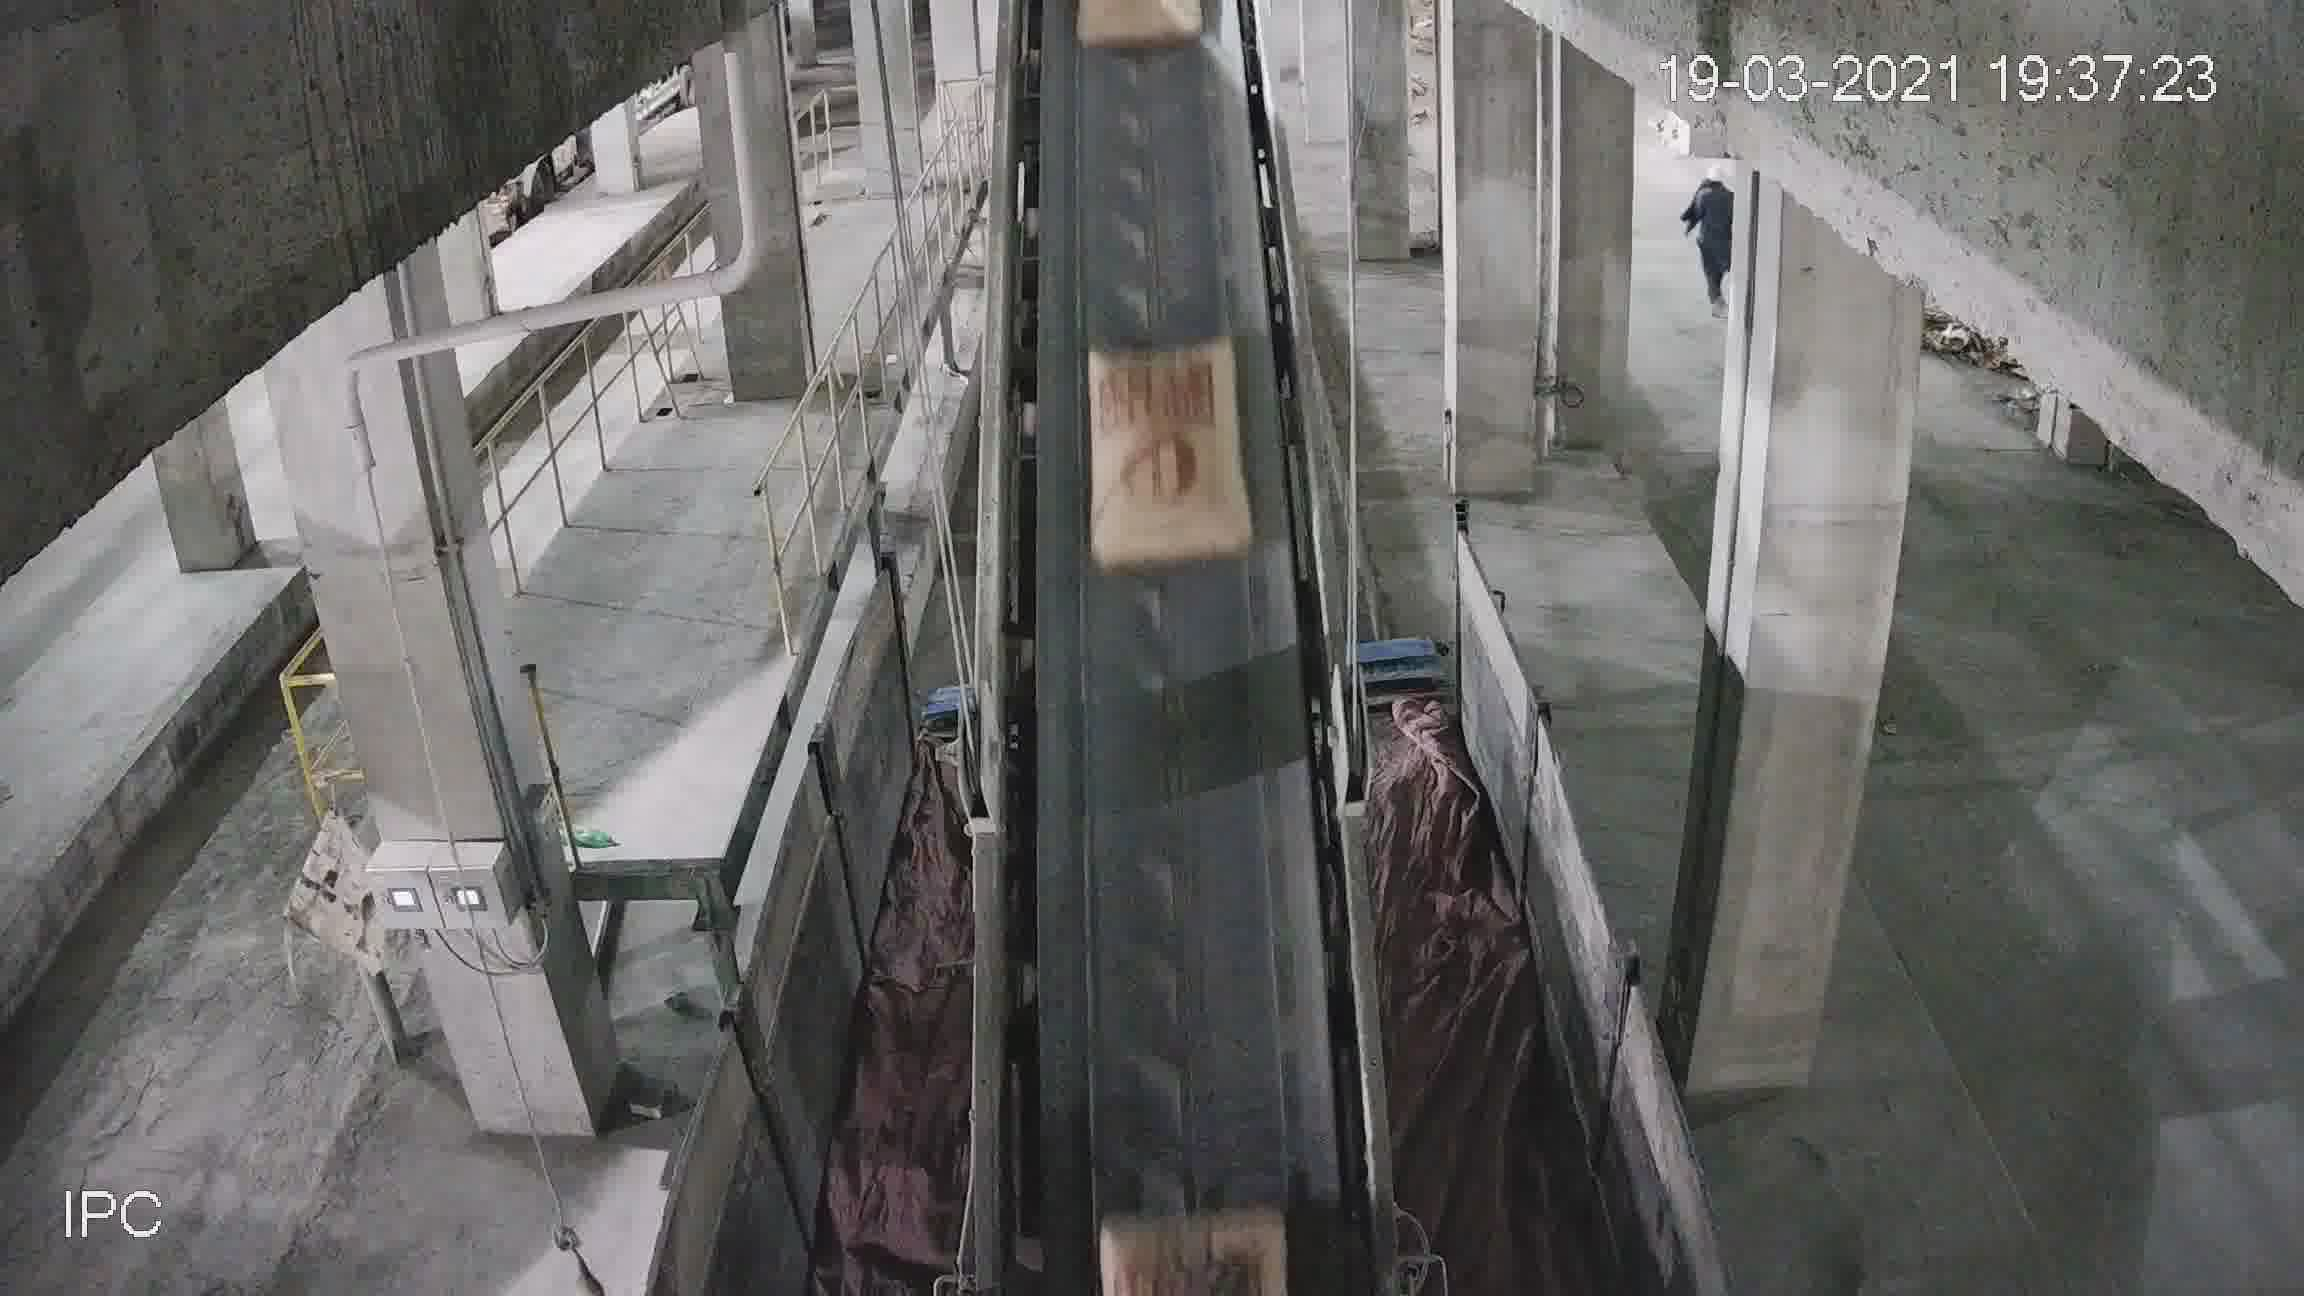bag: (1086, 337, 1242, 570)
belt: (978, 9, 1348, 1154)
